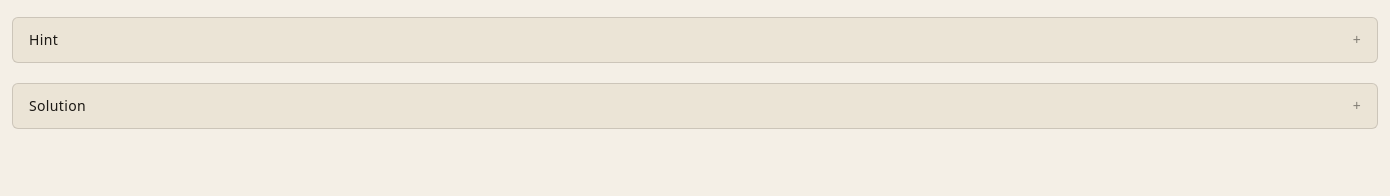
Test: widgets › toggles hint and solution
Later steps or results of the test are not shown.
Expected: the text "Try a square." is not shown
Click the button "Hint +" at (44, 40), box [13,18,1377,62]
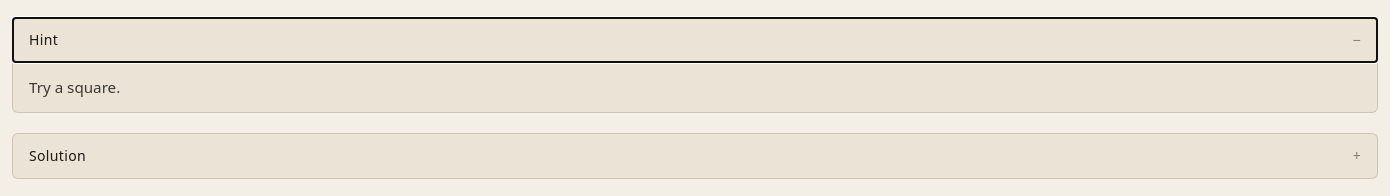
Expected: the text "Try a square." is shown, [13,62,1377,112]
Click the button "Hint −" at (44, 40), box [13,18,1377,62]
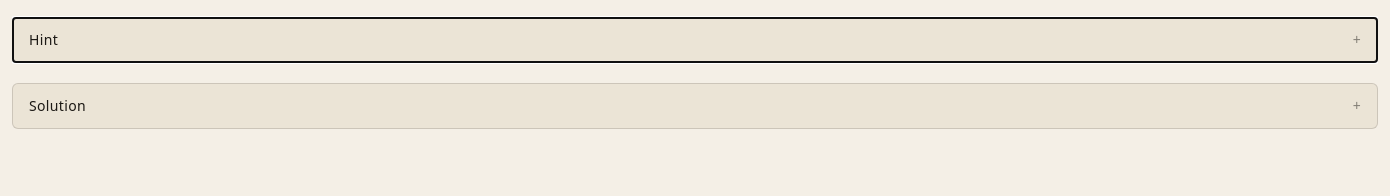
Expected: the text "Try a square." is gone
Click the button "Solution +" at (58, 106), box [13,84,1377,128]
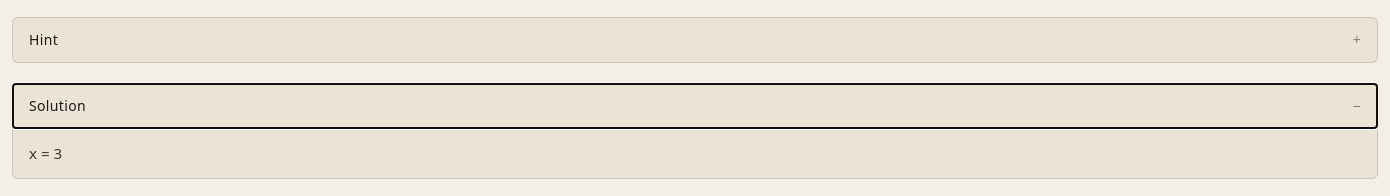
Expected: the text "x = 3" is shown, [13,128,1377,178]
